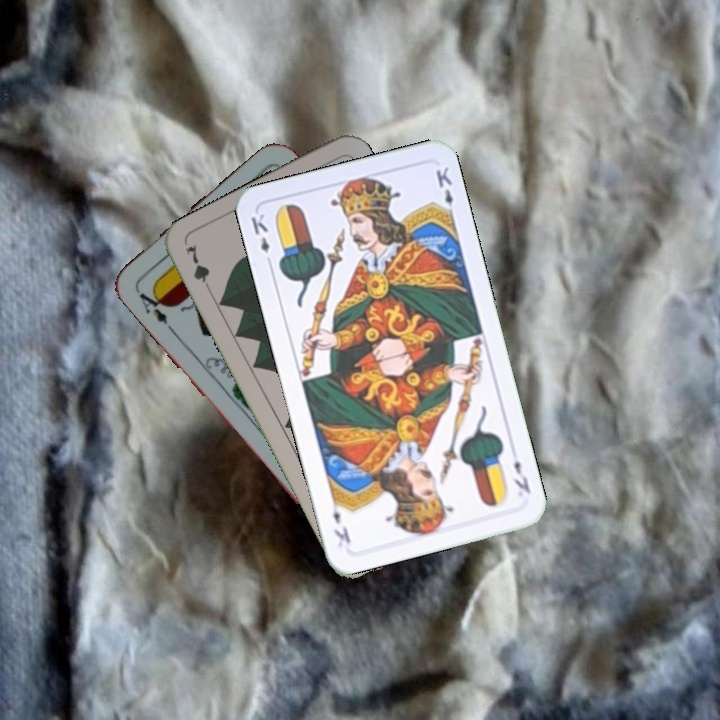EA: (134, 285, 176, 334)
EK: (247, 209, 275, 269), (509, 456, 533, 496)
G7: (180, 241, 215, 298)
